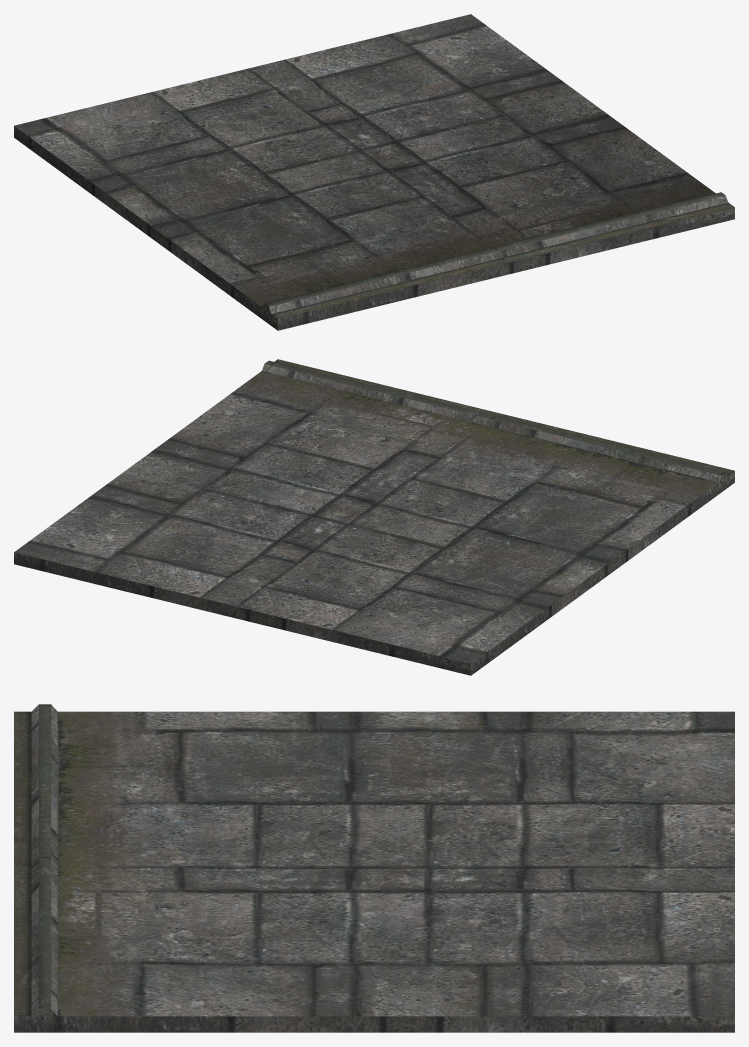
File: floor1transd.fbx
3 views of the same model, one above another, from view 1: azimuth 30°, elevation 25°; view 2: azimuth 150°, elevation 25°; view 3: azimuth 270°, elevation 25° (orthographic). The views are drawn at different scales.
Parts seen in each view (by area): view 1: Mesh Object; view 2: Mesh Object; view 3: Mesh Object.
Part boxes in pixels (x1,y1,x2,y2): Mesh Object: [14, 14, 734, 330]; Mesh Object: [14, 359, 734, 675]; Mesh Object: [14, 704, 734, 1032].
Bounding box in the file's own units: 4 × 0.1433 × 4.
